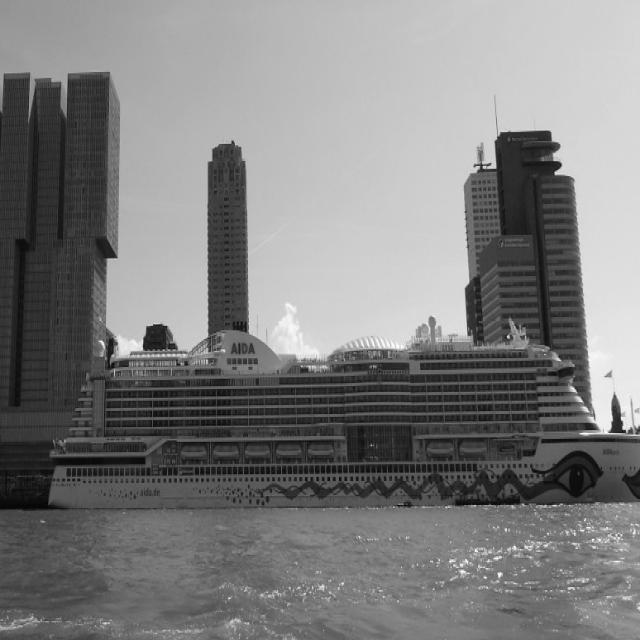cruises: (44, 317, 640, 519)
